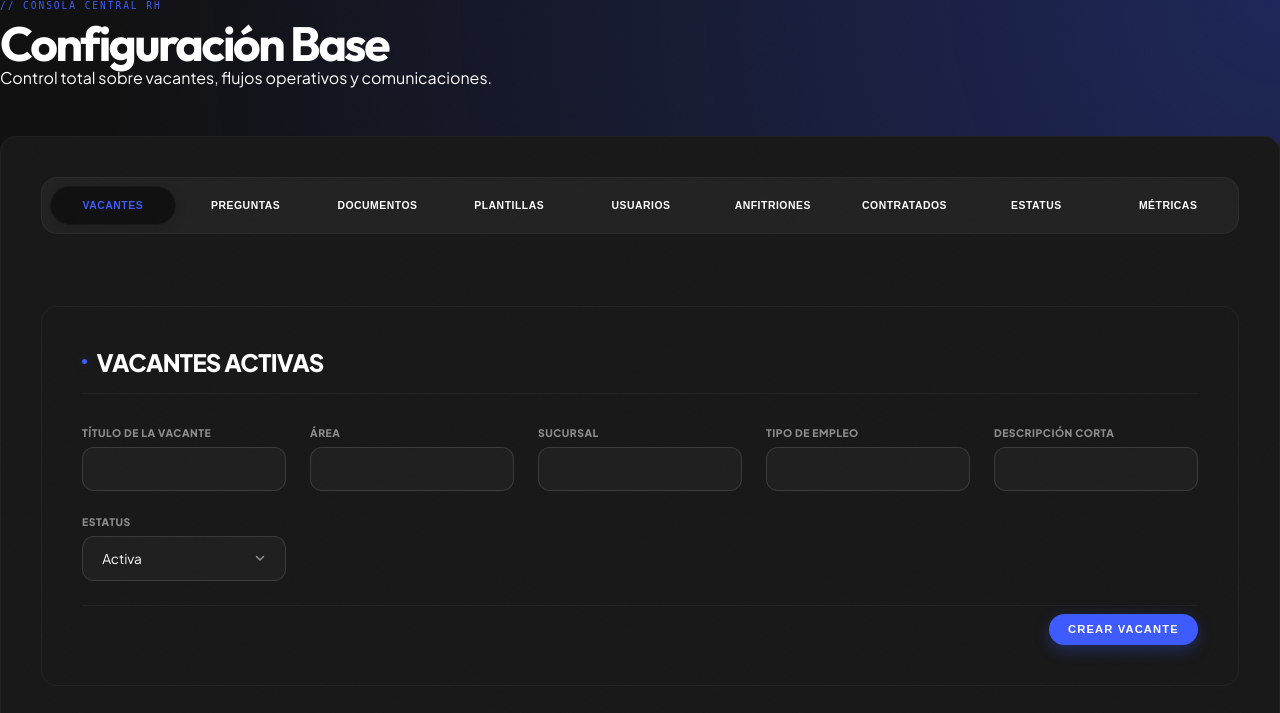
Test: CrmAdmin › cambia a pestaña Estatus y muestra transiciones
Click the button "Estatus" at (1036, 205), box [974,186,1098,225]
(page scrolled)
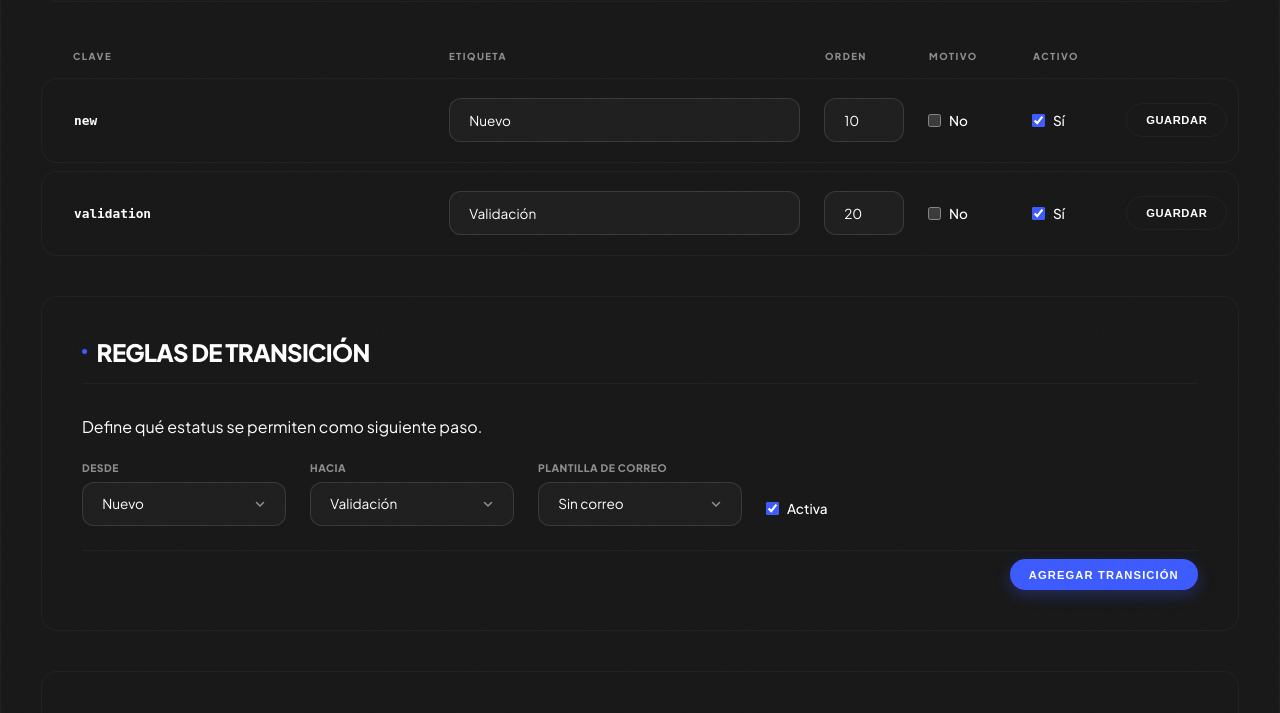
Expected: the heading "Reglas de transición" is shown, [82,336,1198,384]
